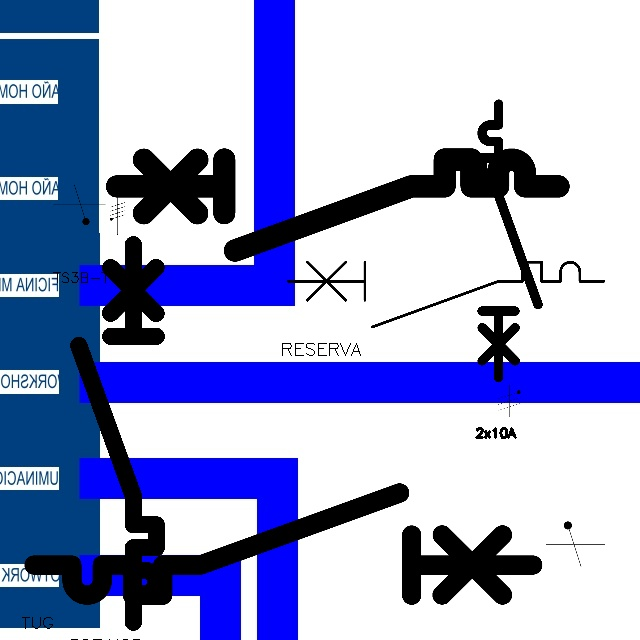interruptor_termomagnetico: (21, 480, 545, 608), (105, 148, 570, 261), (69, 234, 166, 631), (280, 254, 612, 335), (475, 97, 545, 384)
